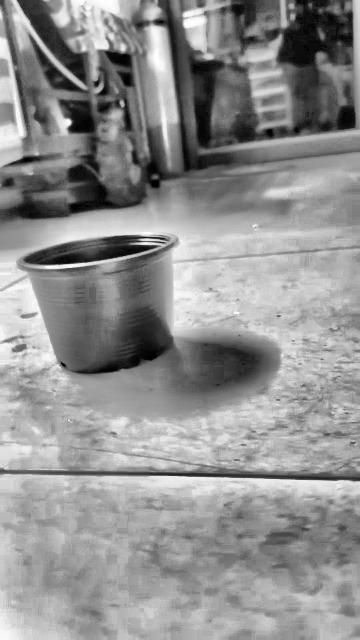pot: (17, 234, 177, 373)
